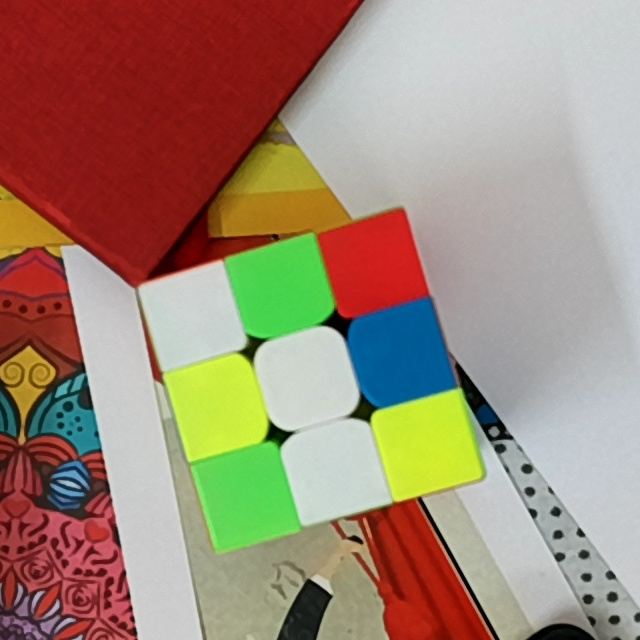tile: (364, 316, 438, 389), (298, 435, 372, 507), (270, 343, 343, 414), (212, 459, 282, 532), (391, 409, 464, 479), (244, 253, 317, 322), (183, 372, 252, 441), (157, 282, 227, 348), (339, 232, 408, 296)
